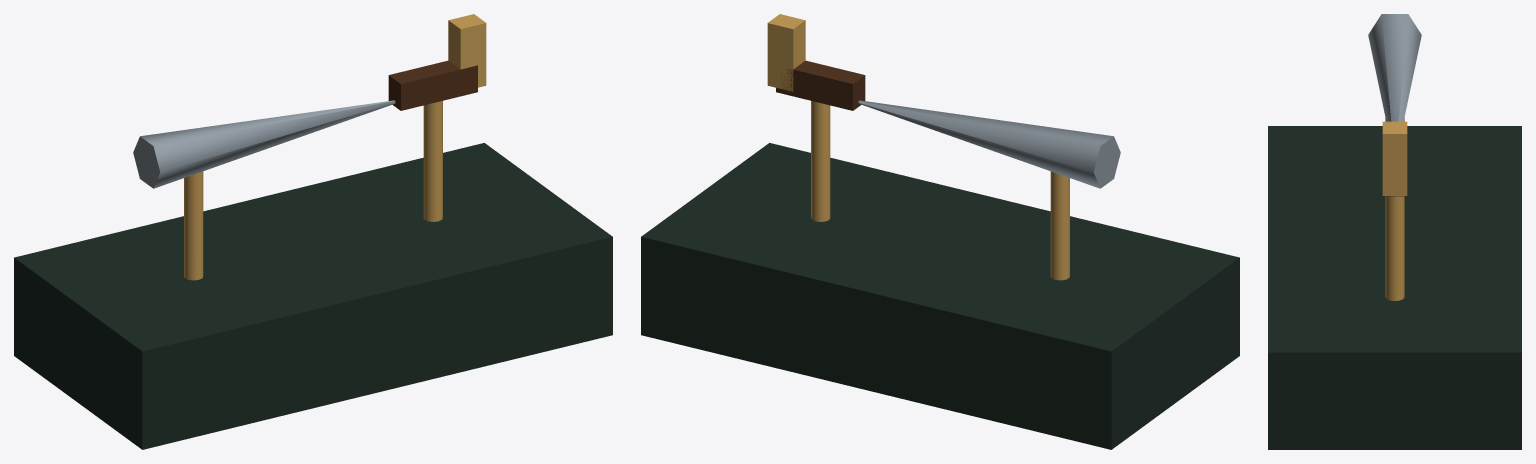
File: weapon-rencong-aceh.glb
3 views of the same model, side by side, from view 1: azimuth 30°, elevation 25°; view 2: azimuth 150°, elevation 25°; view 3: azimuth 270°, elevation 25° (orthographic).
Size of the model in its own units: 1.1 by 0.64 by 0.52.
